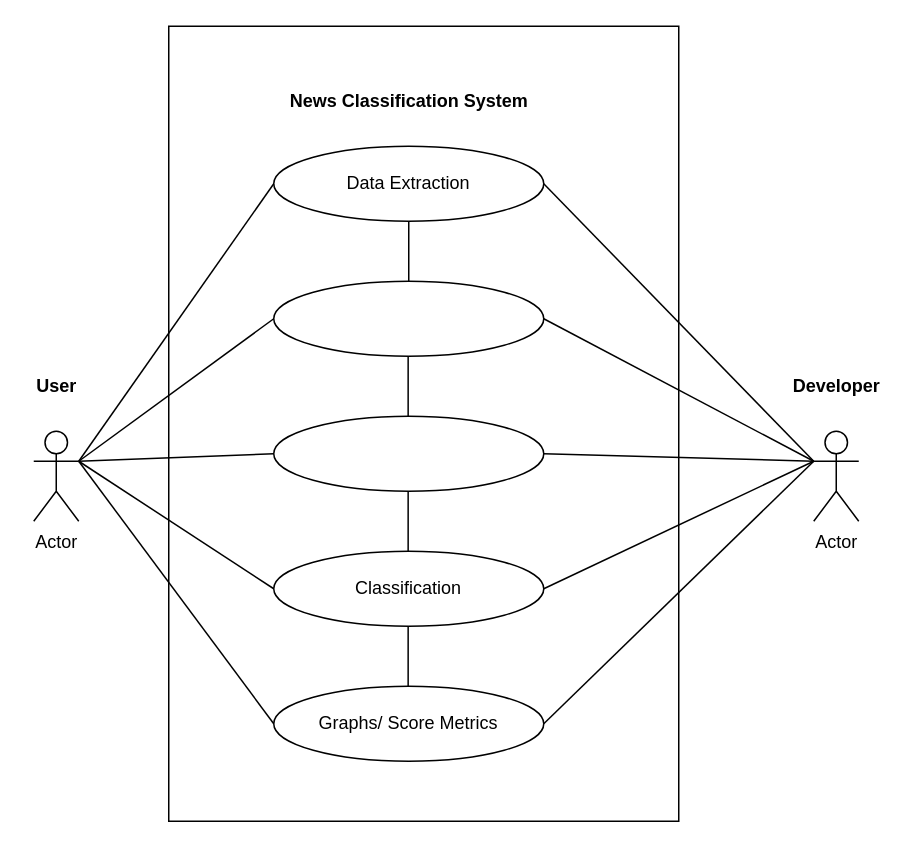
This 914x848 diagram has some shape labels left out. The centre of each missing label's shape, as x and y in pixels:
"Data Preprocessing" belongs at point 408,318.
"Feature Extraction" belongs at point 408,453.
